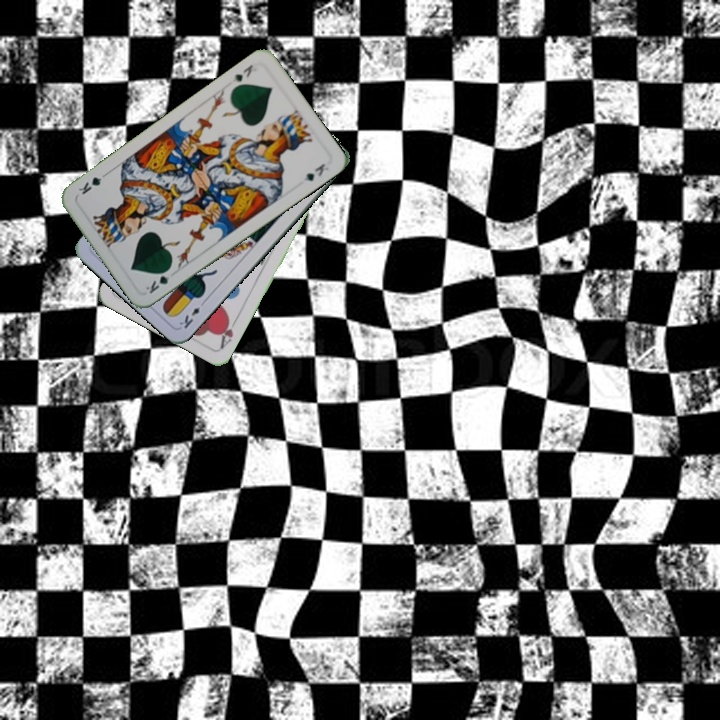EK: (175, 296, 208, 331)
GK: (142, 264, 174, 296), (228, 60, 256, 85)
HA: (215, 313, 240, 351)
